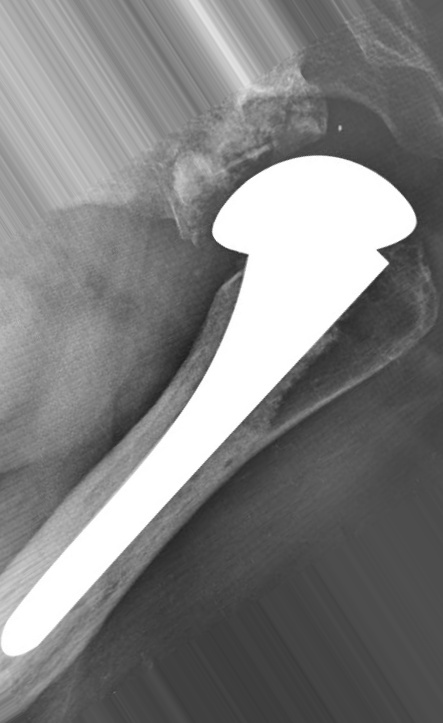Shoulder - Anotomyhead - Stryker: (204, 144, 423, 332)
Shoulder - Anotomytail - Stryker: (193, 203, 400, 486)
